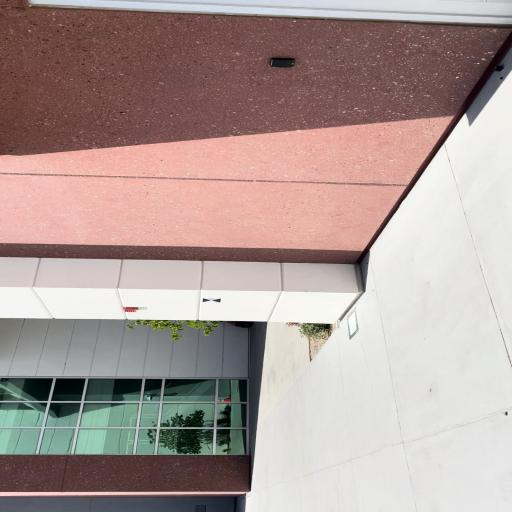target6: (203, 298, 221, 302)
